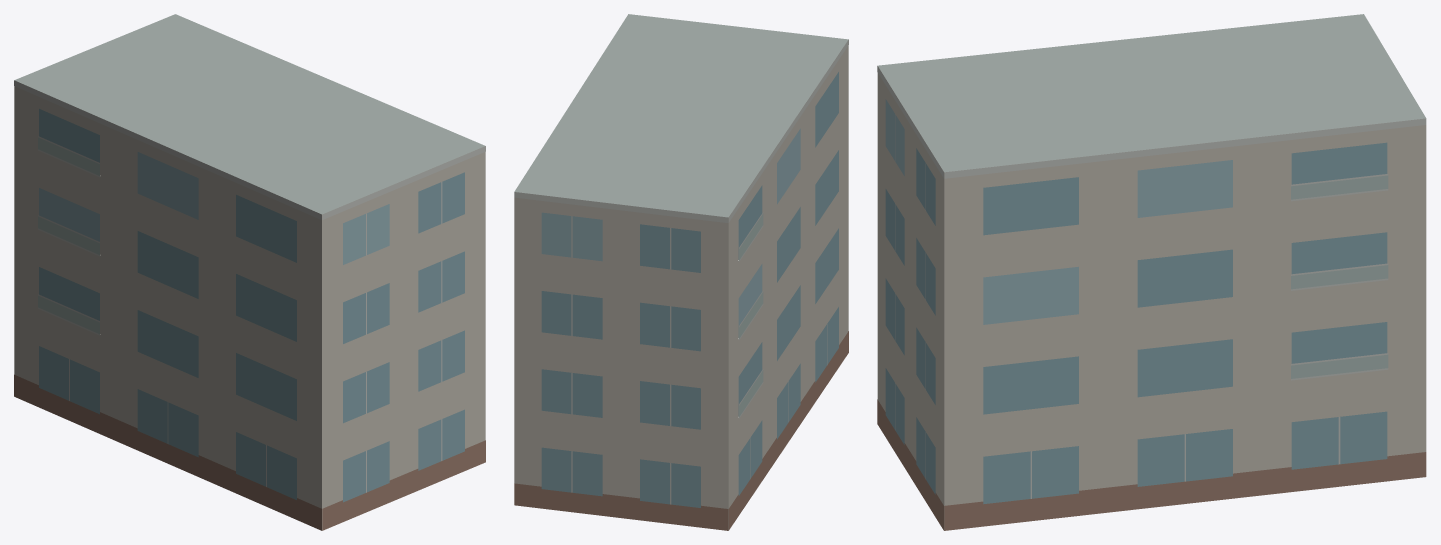
File: survey-upis-32798349.glb
The picture shows the model from 3 angles, left to right: view 1: azimuth 30°, elevation 25°; view 2: azimuth 150°, elevation 25°; view 3: azimuth 270°, elevation 25°; orthographic projection. The views are drawn at different scales.
Parts seen in each view (by area): view 1: survey-upis-32798349.tmp; view 2: survey-upis-32798349.tmp; view 3: survey-upis-32798349.tmp.
Boxes of the visible parts, bbox=[...] form: survey-upis-32798349.tmp: bbox=[14, 14, 485, 530]; survey-upis-32798349.tmp: bbox=[514, 14, 848, 530]; survey-upis-32798349.tmp: bbox=[877, 14, 1426, 530].
Size of the model in its own units: 12.75 by 13.45 by 18.67.
